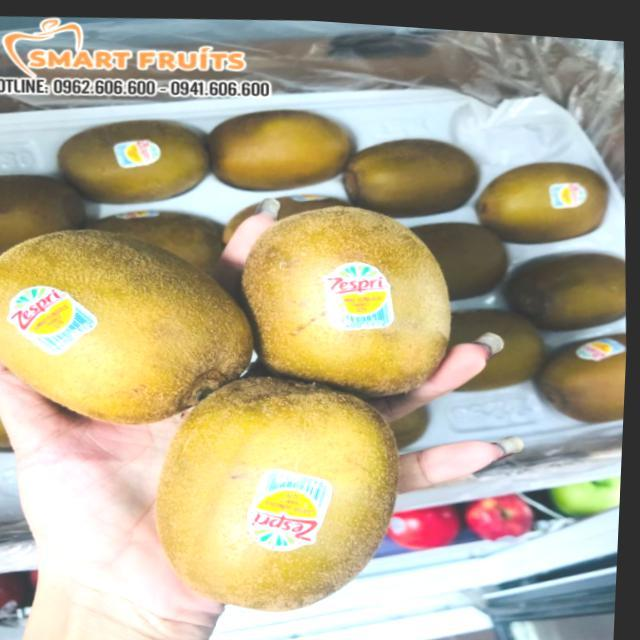kiwi: (147, 357, 415, 623), (1, 215, 264, 439), (237, 190, 463, 405), (55, 109, 211, 209), (207, 99, 356, 195), (473, 149, 618, 244), (504, 236, 632, 327)
